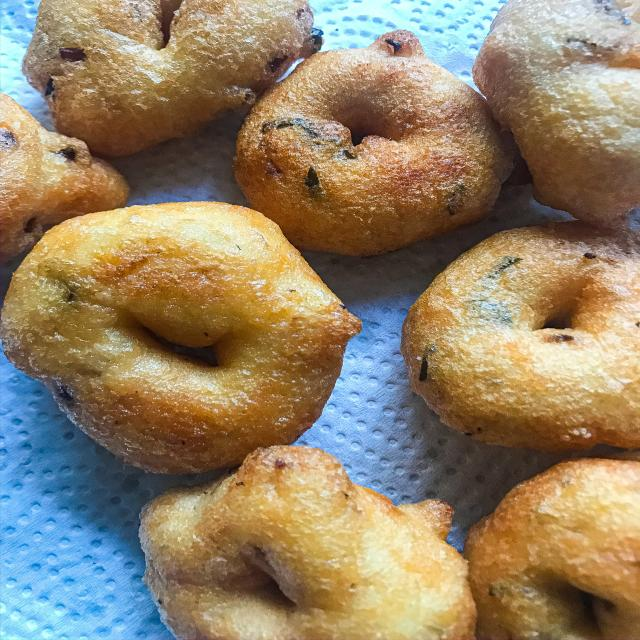MEDU VADA: (2, 202, 361, 473), (139, 445, 476, 640), (233, 31, 517, 256), (401, 220, 640, 451), (22, 0, 321, 156), (464, 458, 640, 638)
